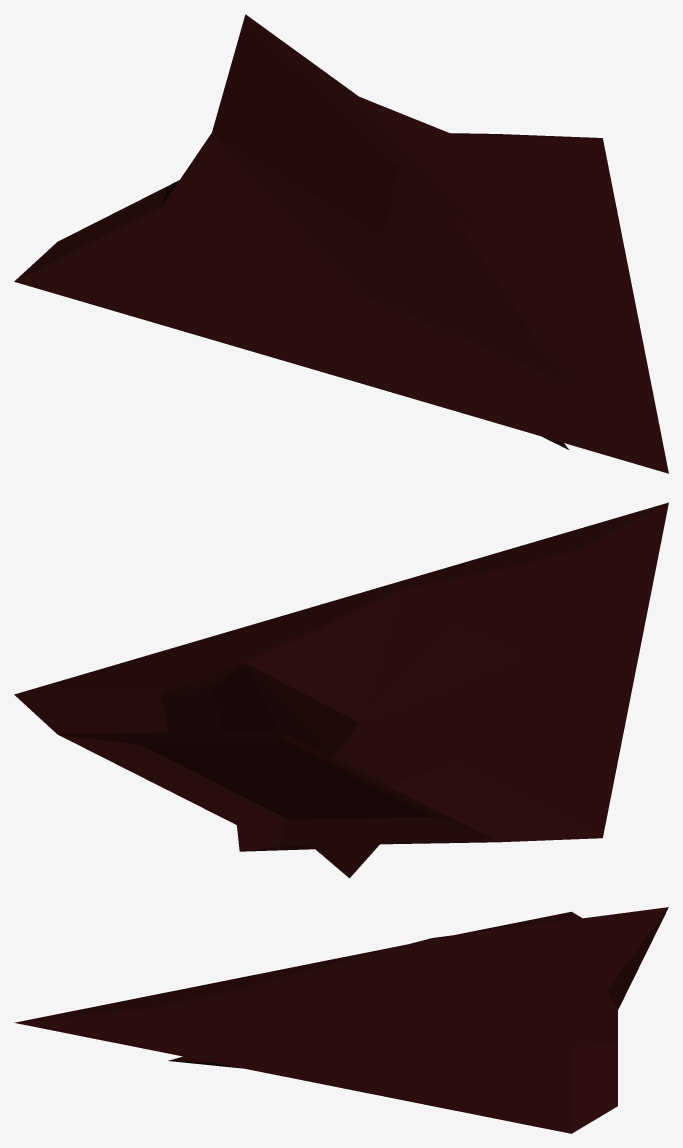
The model's file is space_ship_01.obj.
The picture shows the model from 3 angles, top to bottom: view 1: azimuth 30°, elevation 25°; view 2: azimuth 150°, elevation 25°; view 3: azimuth 270°, elevation 25°; orthographic projection. The views are drawn at different scales.
Parts seen in each view (by area): view 1: Cube; view 2: Cube; view 3: Cube.
Boxes of the visible parts, x1,y1,x2,y2 form: Cube: [14, 14, 668, 473]; Cube: [14, 502, 668, 878]; Cube: [14, 907, 668, 1133].
Bounding box in the file's own units: 4.16 × 1.67 × 5.18.
